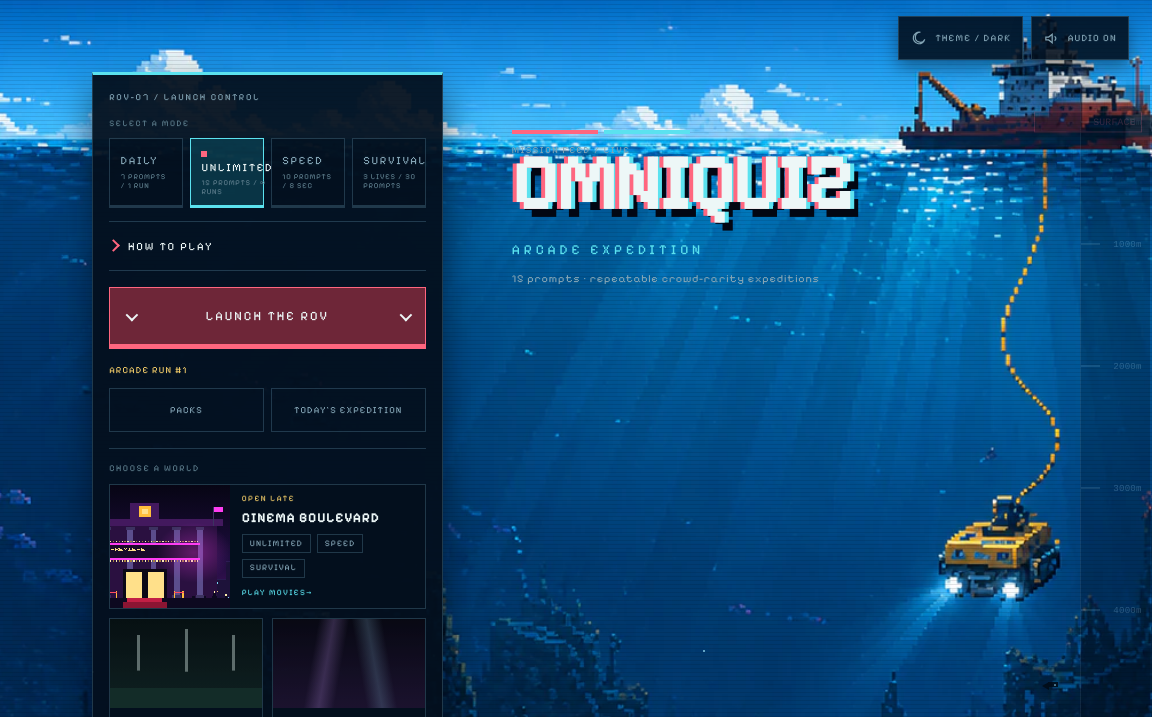
GameExperience › lets unlimited runs continue after an uncharted answer
This screenshot has width=1152, height=717.
Click the button "LAUNCH THE ROV" at [267, 318], box [109,288,426,350]
Wait 3000 ms
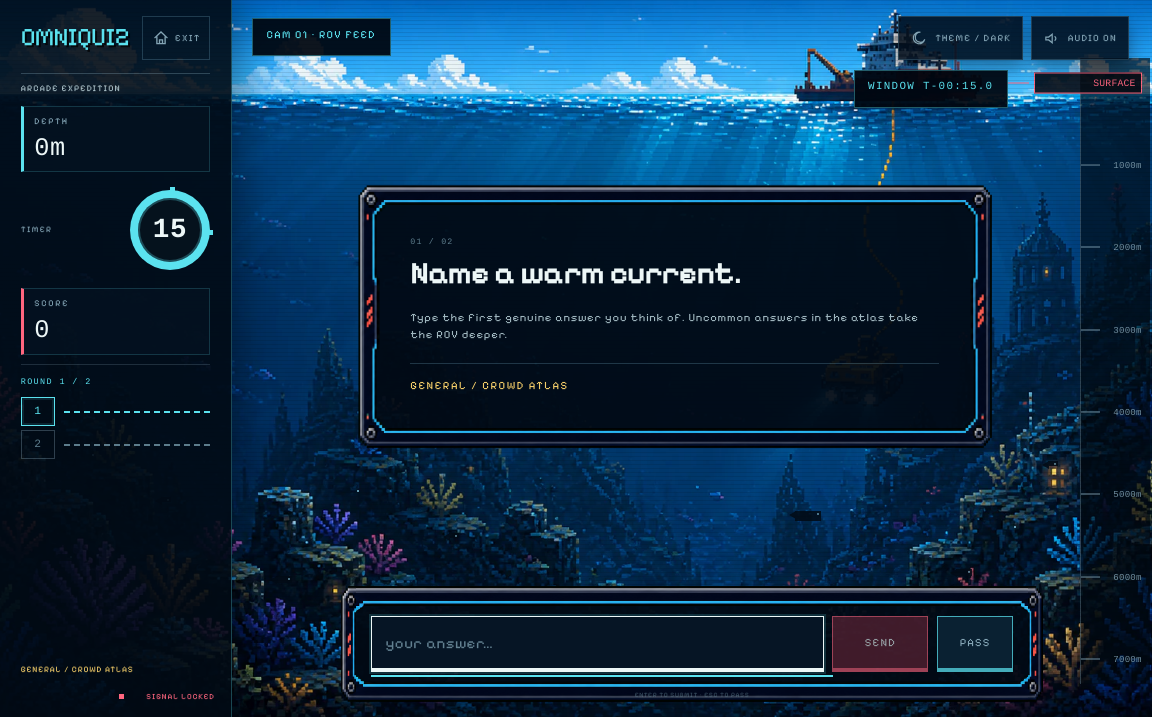
Type "purple quantum walrus" into the field with placeholder "your answer…" at [597, 644], box [371,616,824,672]
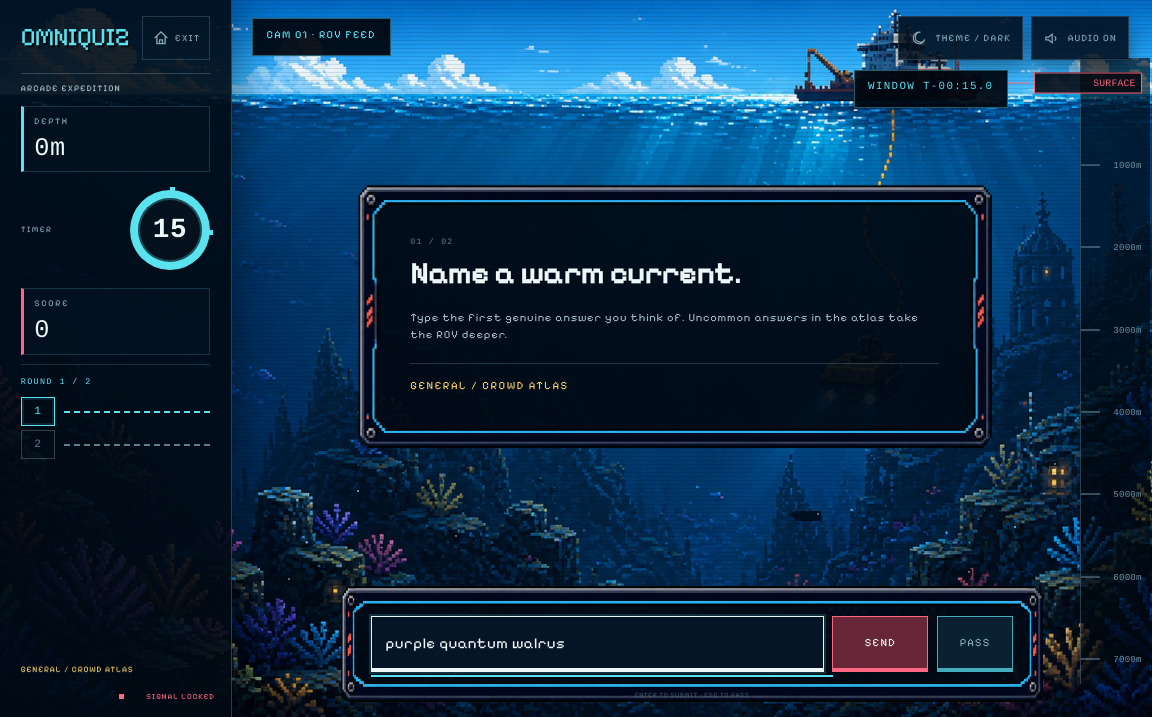
Click the button "SEND" at [880, 644], box [832,616,928,672]
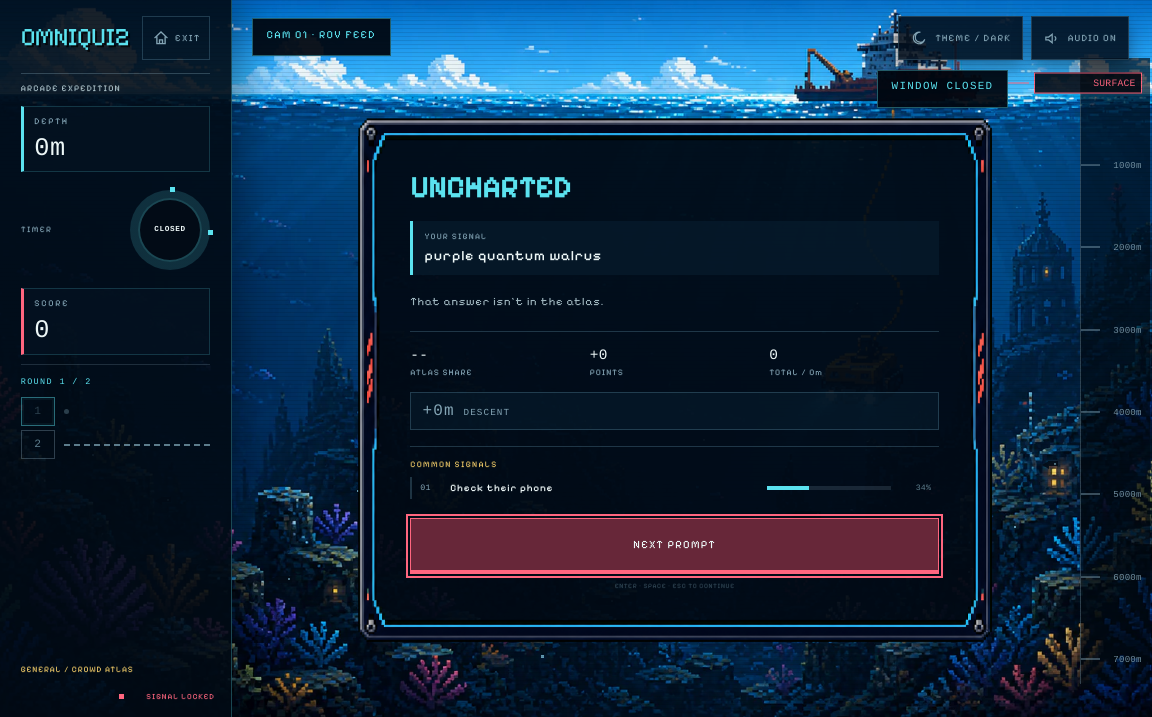
Expected: the message shows "UNCHARTED", [410,168,571,206]
Click the button "NEXT PROMPT" at [675, 546], box [410,518,939,574]
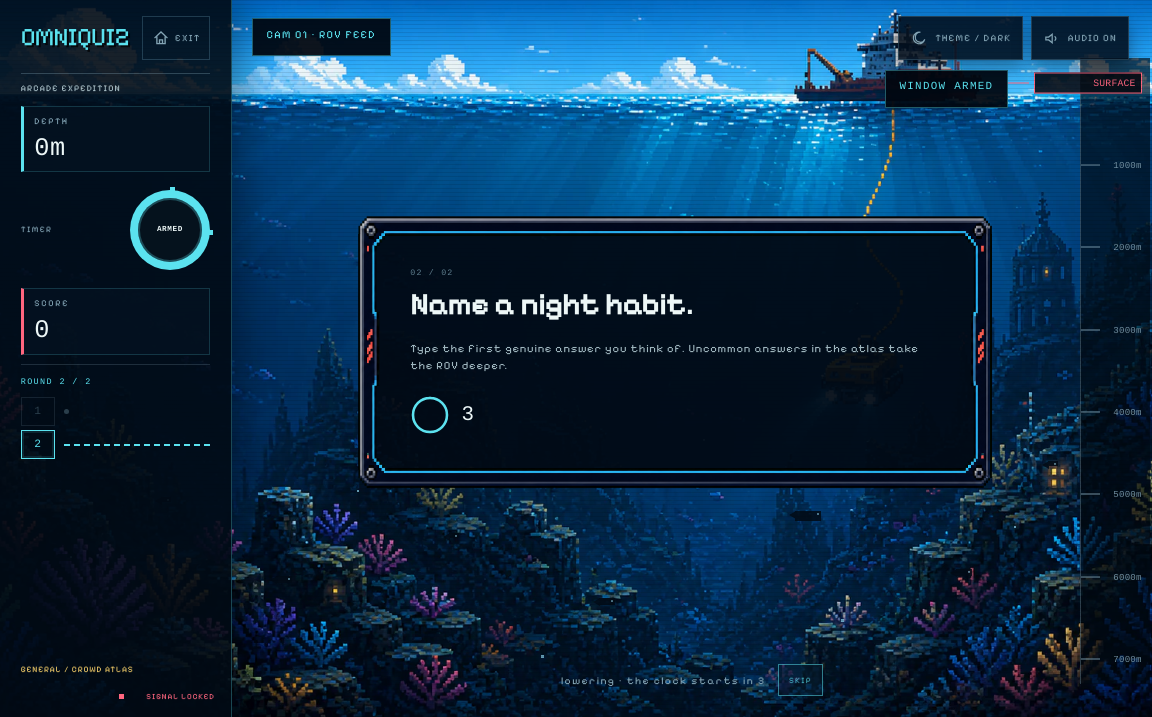
Expected: the heading "Name a night habit." is shown, [410,284,693,322]
